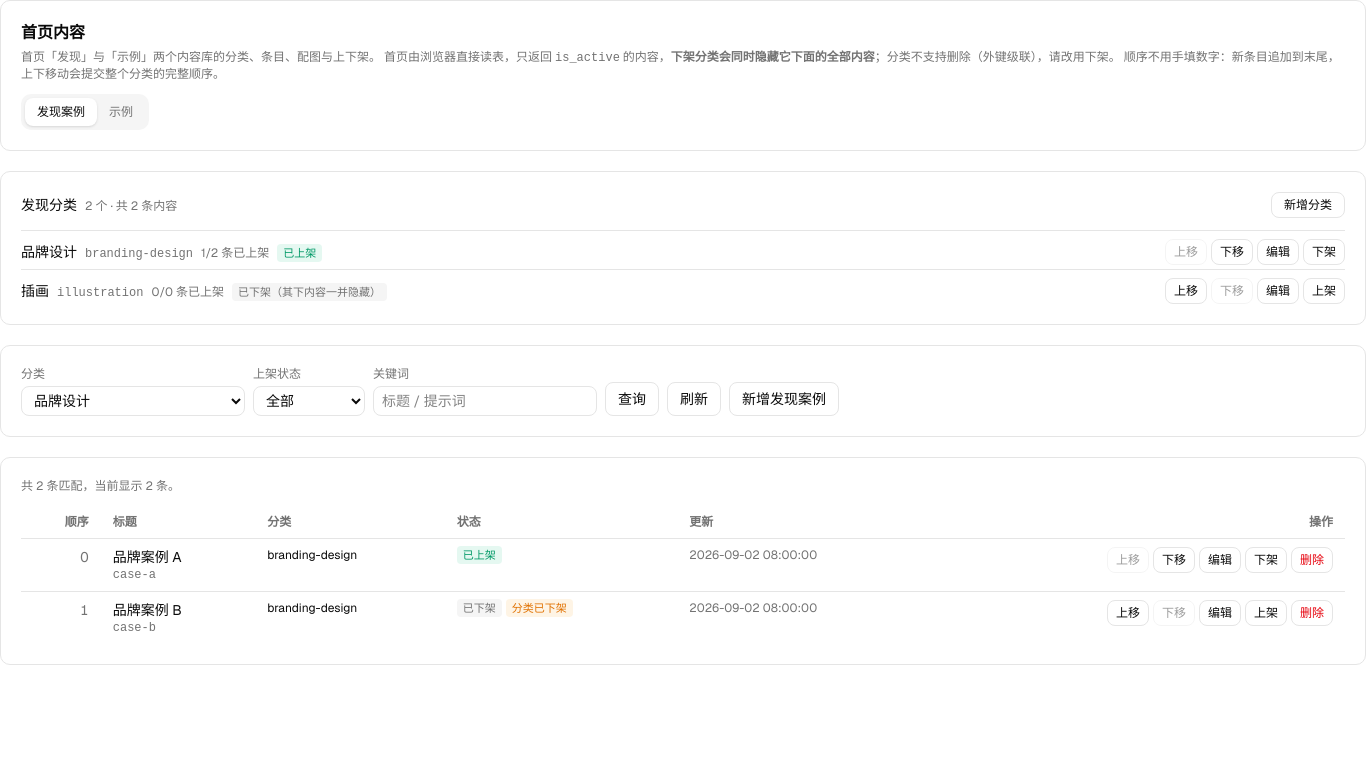
Test: admin home content section › blocks a bad image line before it reaches the server
The width and height of the screenshot is (1366, 757).
Expected: the table with test id "admin-home-table" is shown, [21,506,1345,644]
Click the button "示例" at (121, 112), box [97,98,145,126]
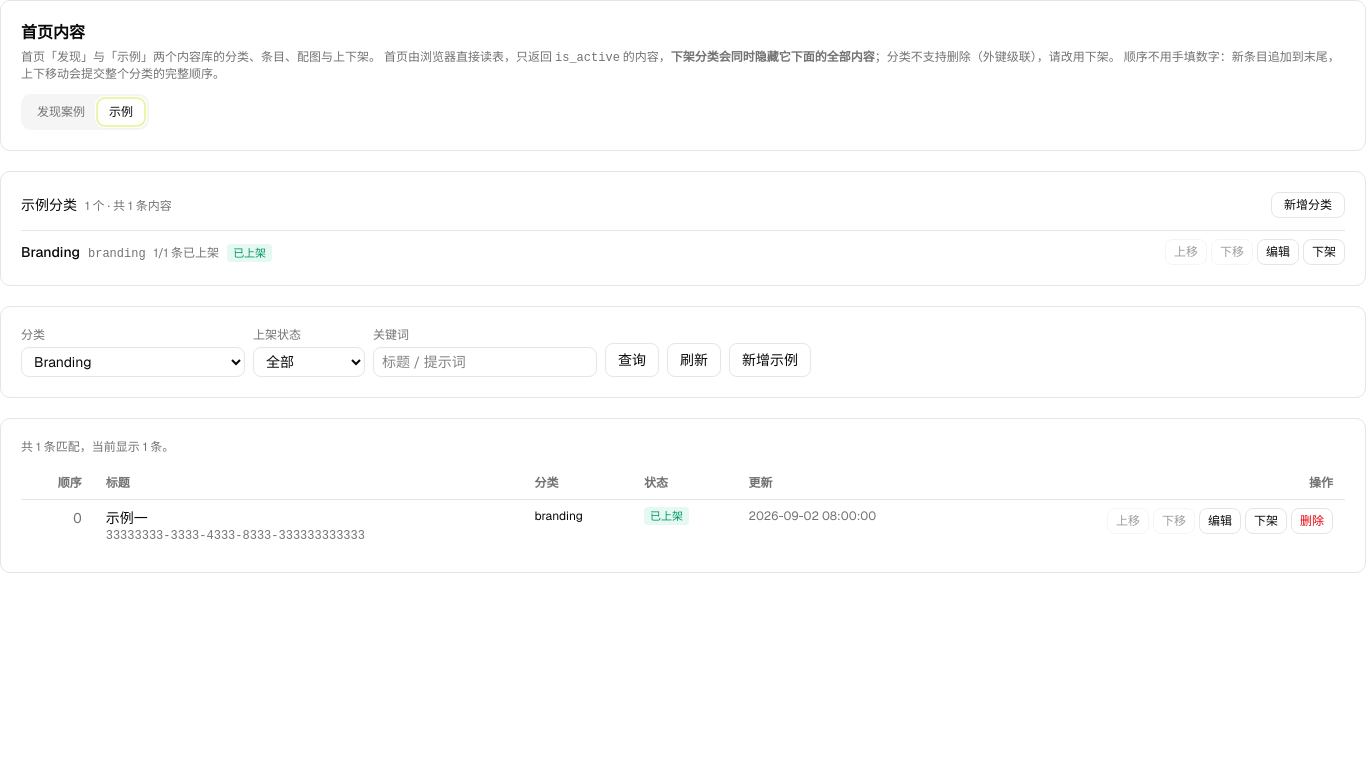
Expected: the text "示例一" is shown, [106,509,148,527]
Click the button "编辑" in the row of "示例一" at (1220, 521), box [1199,508,1241,534]
(page scrolled)
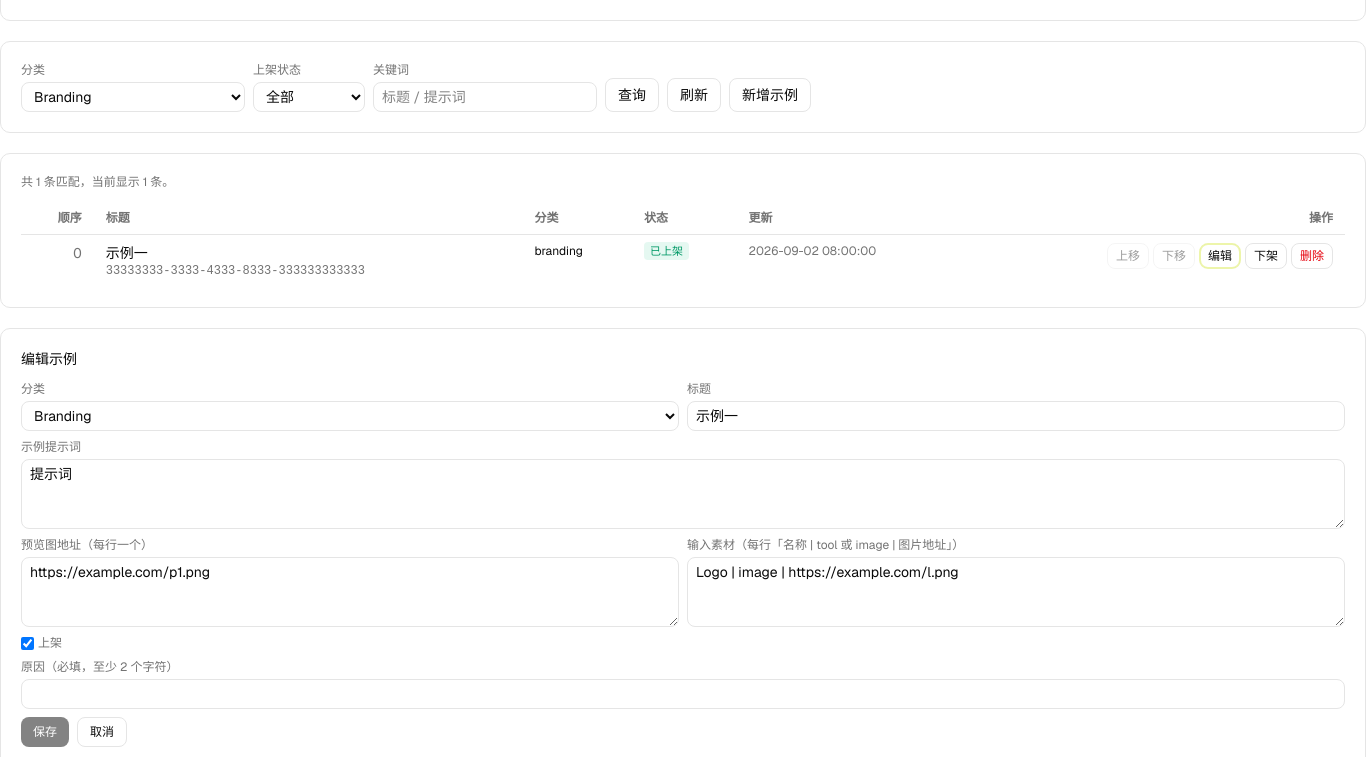
Replace the text in the text box named "表单预览图" with "ftp://nope" at (350, 592), box [21,557,679,627]
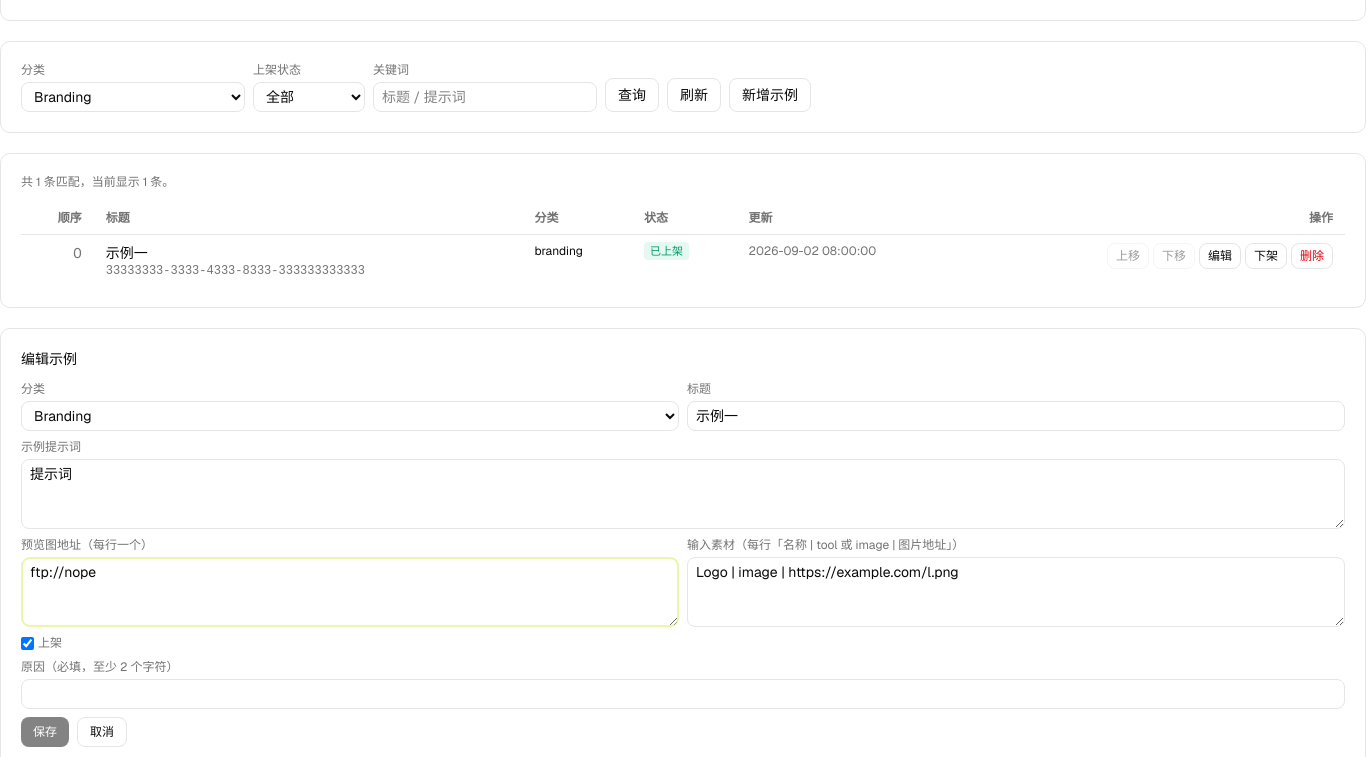
Type "换图" into the field named "表单原因" at (683, 694), box [21,679,1345,709]
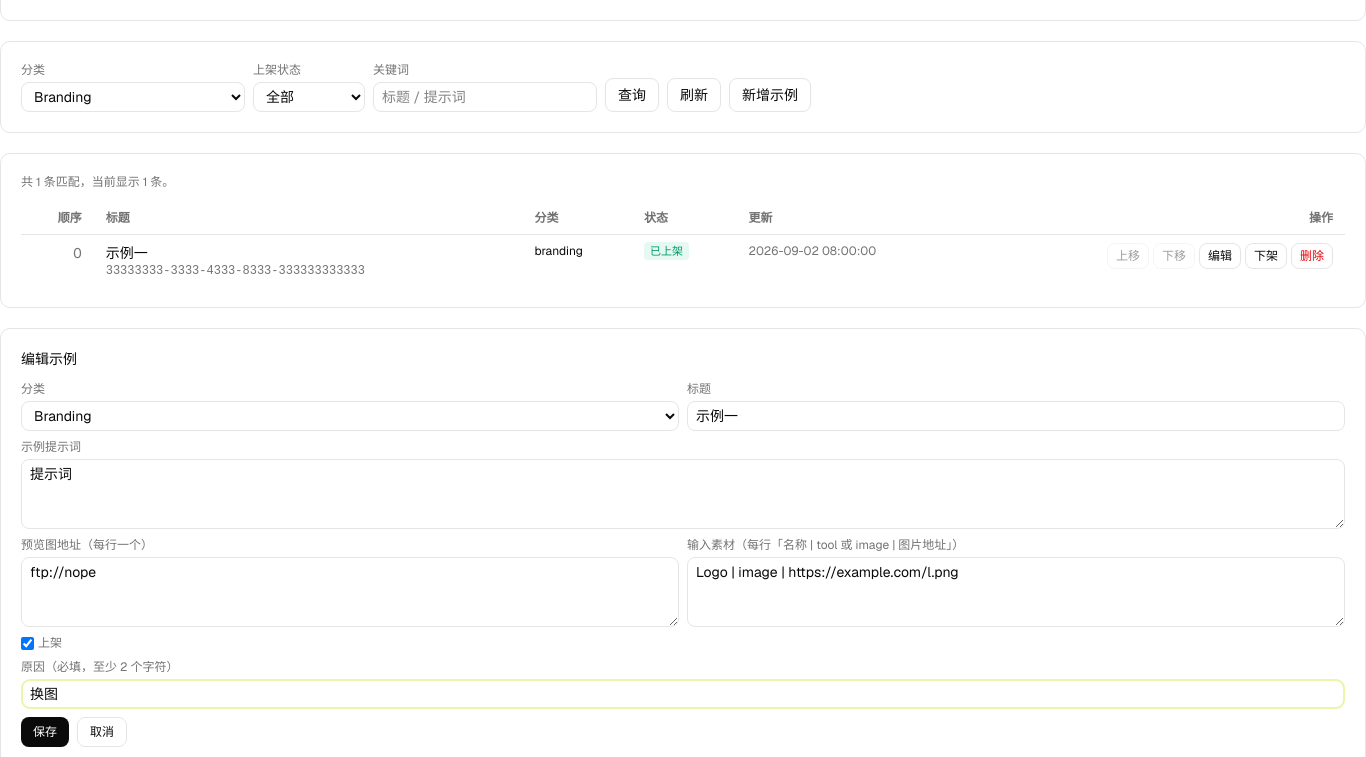
Click the button "保存" at (45, 732), box [21,717,69,747]
(page scrolled)
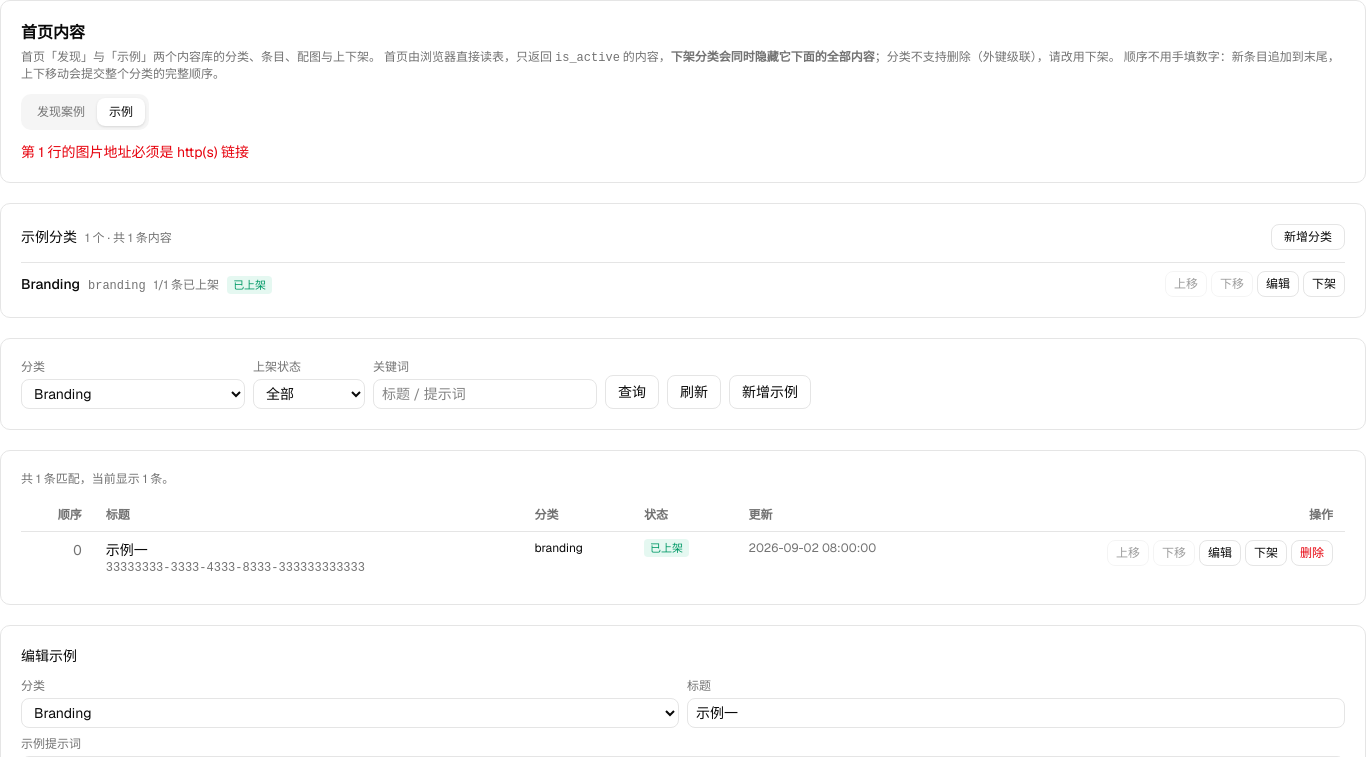
Expected: the text with test id "admin-home-error" shows "必须是 http(s) 链接", [21,143,249,161]
